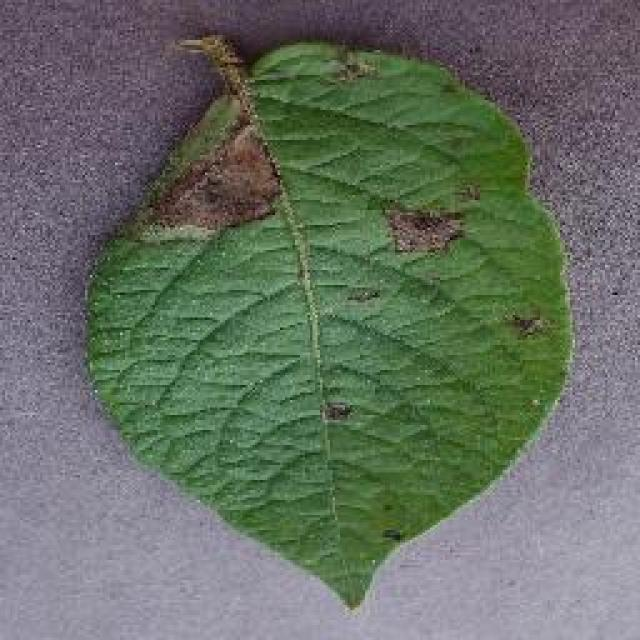Late_blight: (144, 104, 310, 255), (370, 187, 505, 262), (507, 296, 556, 360)
